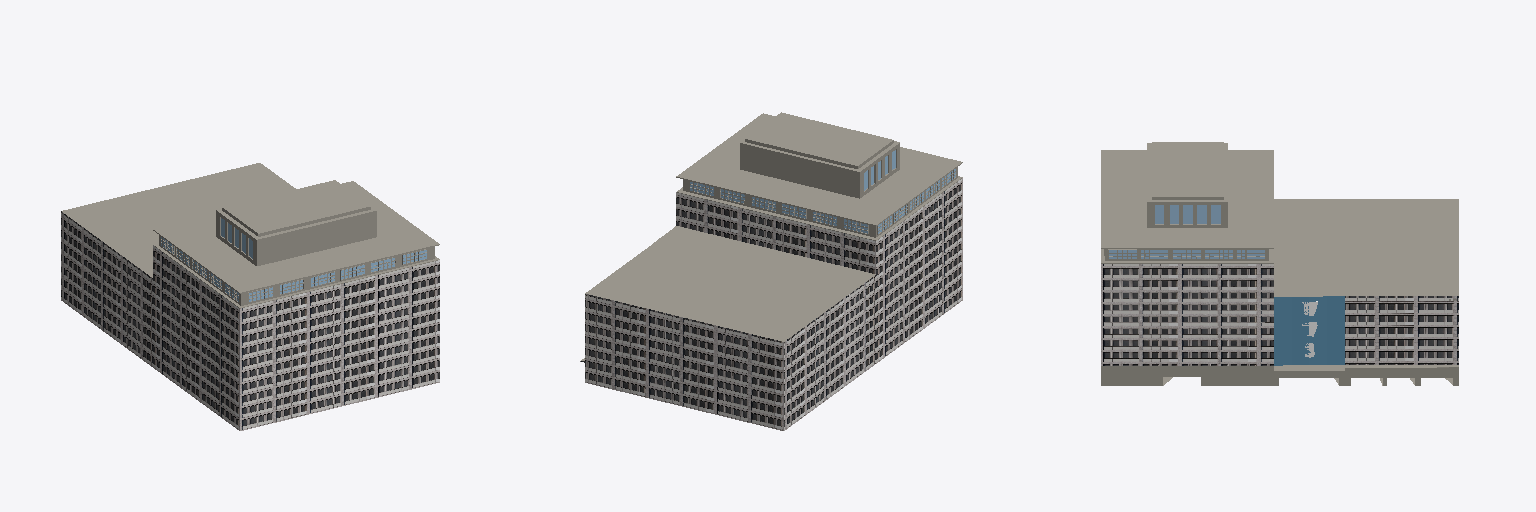
The picture shows the model from 3 angles: view 1: azimuth 30°, elevation 25°; view 2: azimuth 150°, elevation 25°; view 3: azimuth 270°, elevation 25°; orthographic projection.
Parts seen in each view (by area): view 1: Mesh29 Group1 Model; view 2: Mesh29 Group1 Model; view 3: Mesh29 Group1 Model.
Part boxes in pixels (x1,y1,x2,y2): Mesh29 Group1 Model: (61,163,439,430); Mesh29 Group1 Model: (580,112,962,430); Mesh29 Group1 Model: (1101,142,1458,385).
Bounding box in the file's own units: 405 × 309 × 595.
Materials: 6 (2 with a texture image).